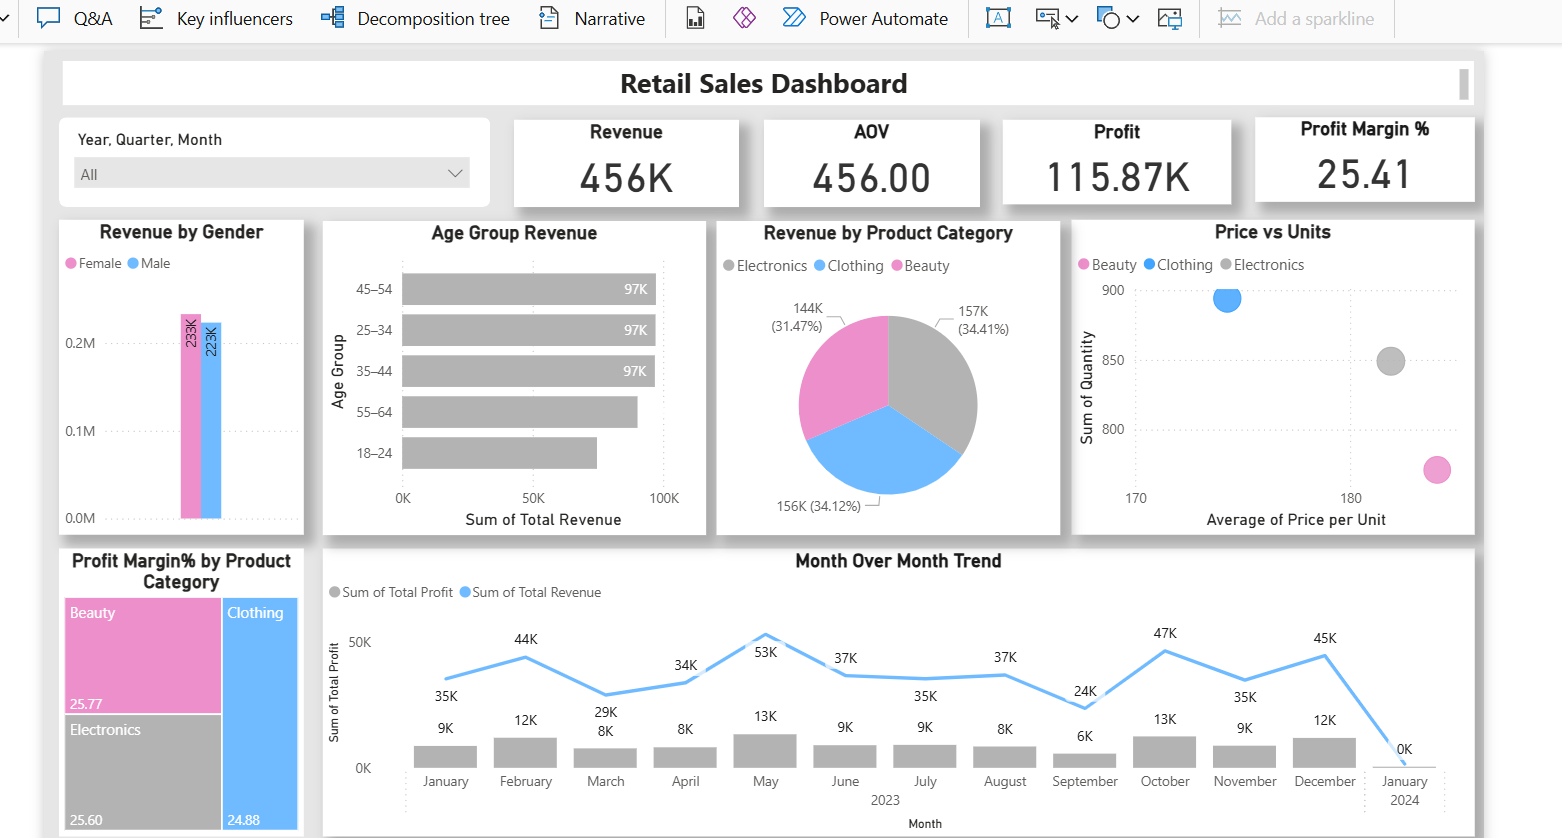

This screenshot's page, from the dashboard's own definition file:
{"tool":"powerbi","page":{"name":"Executive Dashboard","canvas":[1280,720],"ordinal":0},"visuals":[{"type":"card","title":"Revenue","fields":{"Values":["retail_sales.Sum of Total Revenue"]},"box":[417.9,60.7,200,77.4],"z":0},{"type":"card","title":"Profit","fields":{"Values":["retail_sales.Sum of Total Profit"]},"box":[852.4,60.7,203.6,75],"z":1000},{"type":"card","title":"AOV","fields":{"Values":["retail_sales.Average Order Value"]},"box":[640.5,60.7,191.7,77.4],"z":2000},{"type":"card","title":"Profit Margin %","fields":{"Values":["retail_sales.Sum of Profit Margin"]},"box":[1076.2,58.3,195.2,75],"z":3000},{"type":"lineClusteredColumnComboChart","title":" Month Over Month Trend","fields":{"Category":["retail_sales.Date.Variation.Date Hierarchy.Year","retail_sales.Date.Variation.Date Hierarchy.Month"],"Y":["Sum(retail_sales.Total Profit)"],"Y2":["Sum(retail_sales.Total Revenue)"]},"box":[247.6,441.7,1023.8,256],"z":4000},{"type":"shape","box":[13.1,58.3,383.3,79.8],"z":5000},{"type":"group","id":"g1","title":"Group 1","box":[16.7,65.5,371.4,58.3],"z":6000},{"type":"clusteredColumnChart","title":"Revenue by Gender","fields":{"Series":["retail_sales.Gender"],"Y":["Sum(retail_sales.Total Revenue)"]},"box":[13.1,150,217.9,279.8],"z":7000},{"type":"scatterChart","title":"Price vs Units ","fields":{"Y":["Sum(retail_sales.Quantity)"],"Series":["retail_sales.Product Category"],"X":["Avg(retail_sales.Price per Unit)"],"Size":["retail_sales.Sum of Total Profit"]},"box":[913.1,150,358.3,279.8],"z":8000},{"type":"clusteredBarChart","title":"Age Group Revenue","fields":{"Category":["retail_sales.Age Group"],"Y":["retail_sales.Sum of Total Revenue"]},"box":[247.8,151.1,341.1,278.9],"z":9000},{"type":"pieChart","title":"Revenue by Product Category","fields":{"Category":["retail_sales.Product Category"],"Y":["retail_sales.Sum of Total Revenue"]},"box":[597.8,151.1,305.6,278.9],"z":10000},{"type":"slicer","fields":{"Values":["retail_sales.Date.Variation.Date Hierarchy.Year","retail_sales.Date.Variation.Date Hierarchy.Quarter","retail_sales.Date.Variation.Date Hierarchy.Month"]},"box":[16.7,65.5,371.4,58.3],"z":11000,"group":"g1"},{"type":"treemap","title":"Profit Margin% by Product Category","fields":{"Group":["retail_sales.Product Category"],"Values":["retail_sales.Sum of Profit Margin"]},"box":[13.1,441.7,217.9,256],"z":11000},{"type":"textbox","box":[16.7,8.3,1254.8,39.3],"z":12000}]}

Visuals, with their boxes on the page's 1280x720 design canvas (x1, y1, x2, y2). These are canvas units, not pixel positions in the 1562x838 screenshot, which may show the page scaled, cropped or inside an application window:
"Revenue" card: x1=418 y1=61 x2=618 y2=138
"Profit" card: x1=852 y1=61 x2=1056 y2=136
"AOV" card: x1=640 y1=61 x2=832 y2=138
"Profit Margin %" card: x1=1076 y1=58 x2=1271 y2=133
" Month Over Month Trend" lineClusteredColumnComboChart: x1=248 y1=442 x2=1271 y2=698
shape: x1=13 y1=58 x2=396 y2=138
"Group 1" group: x1=17 y1=66 x2=388 y2=124
"Revenue by Gender" clusteredColumnChart: x1=13 y1=150 x2=231 y2=430
"Price vs Units " scatterChart: x1=913 y1=150 x2=1271 y2=430
"Age Group Revenue" clusteredBarChart: x1=248 y1=151 x2=589 y2=430
"Revenue by Product Category" pieChart: x1=598 y1=151 x2=903 y2=430
slicer - retail_sales.Date.Variation.Date Hierarchy.Year x retail_sales.Date.Variation.Date Hierarchy.Quarter: x1=17 y1=66 x2=388 y2=124
"Profit Margin% by Product Category" treemap: x1=13 y1=442 x2=231 y2=698
textbox: x1=17 y1=8 x2=1272 y2=48
